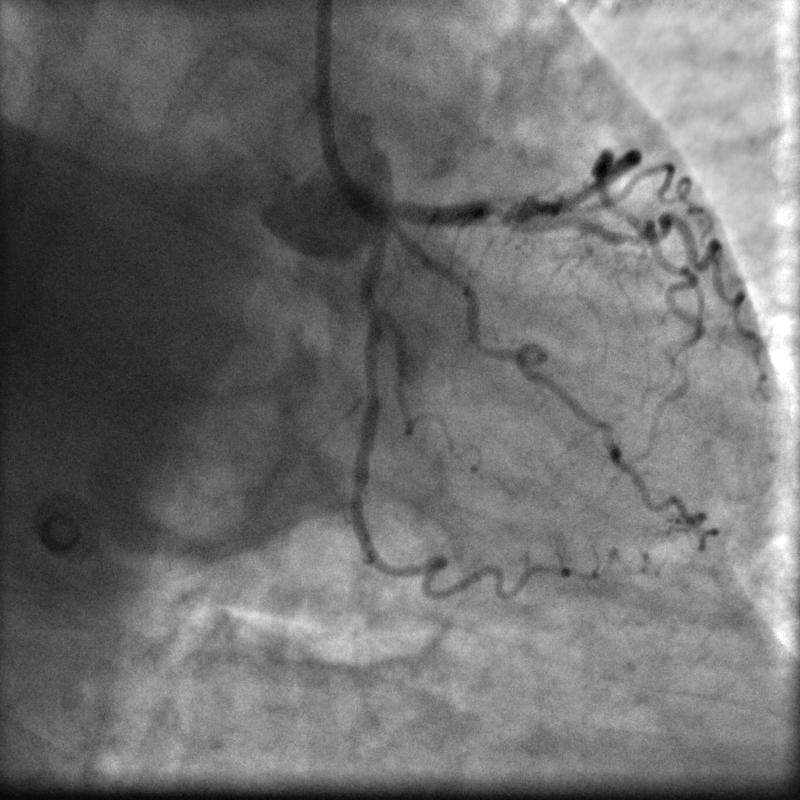Stenosis: (481, 197, 519, 232)
